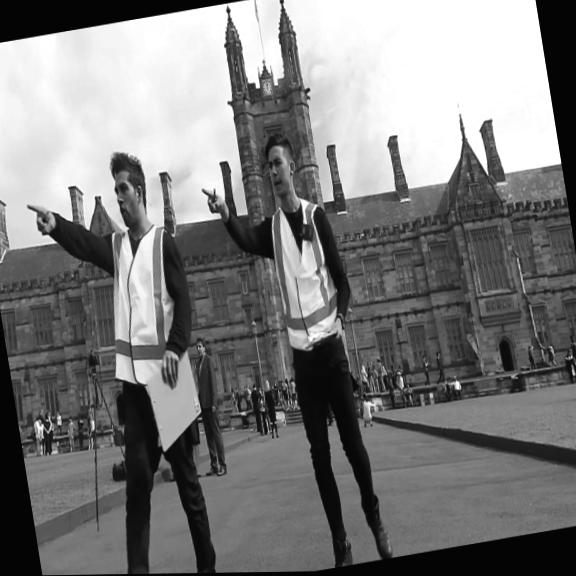safety_vest: (94, 218, 190, 393), (263, 192, 347, 357)
